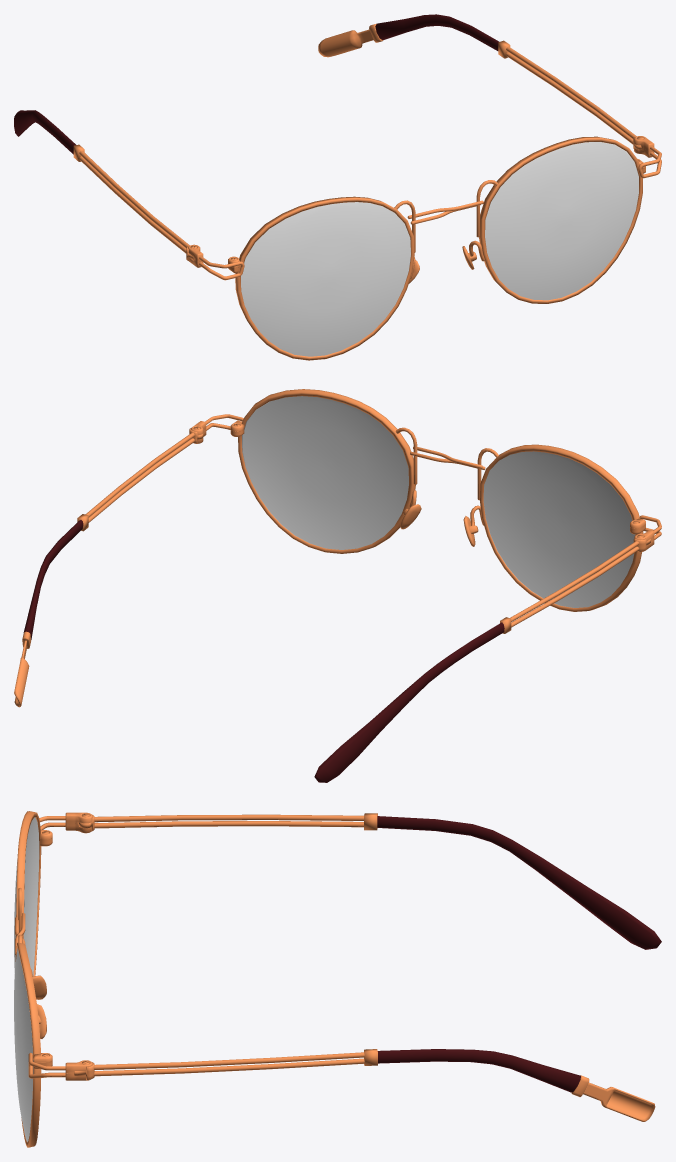
Rendered from Model_Lun_02_not_baked.glb.
3 renders of one model, top to bottom at view 1: azimuth 30°, elevation 25°; view 2: azimuth 150°, elevation 25°; view 3: azimuth 270°, elevation 25°, orthographic. The views are drawn at different scales.
Visible parts, largest first — view 1: verre, Monture.001; view 2: verre, Monture.001; view 3: Monture.001, verre.
Boxes of the visible parts, bbox=[...] form: verre: bbox=[241, 142, 638, 356]; Monture.001: bbox=[14, 14, 661, 360]; verre: bbox=[242, 396, 635, 607]; Monture.001: bbox=[14, 389, 661, 782]; Monture.001: bbox=[15, 811, 661, 1147]; verre: bbox=[14, 817, 39, 1141].
Size of the model in its own units: 0.1381 by 0.0457 by 0.1484.
